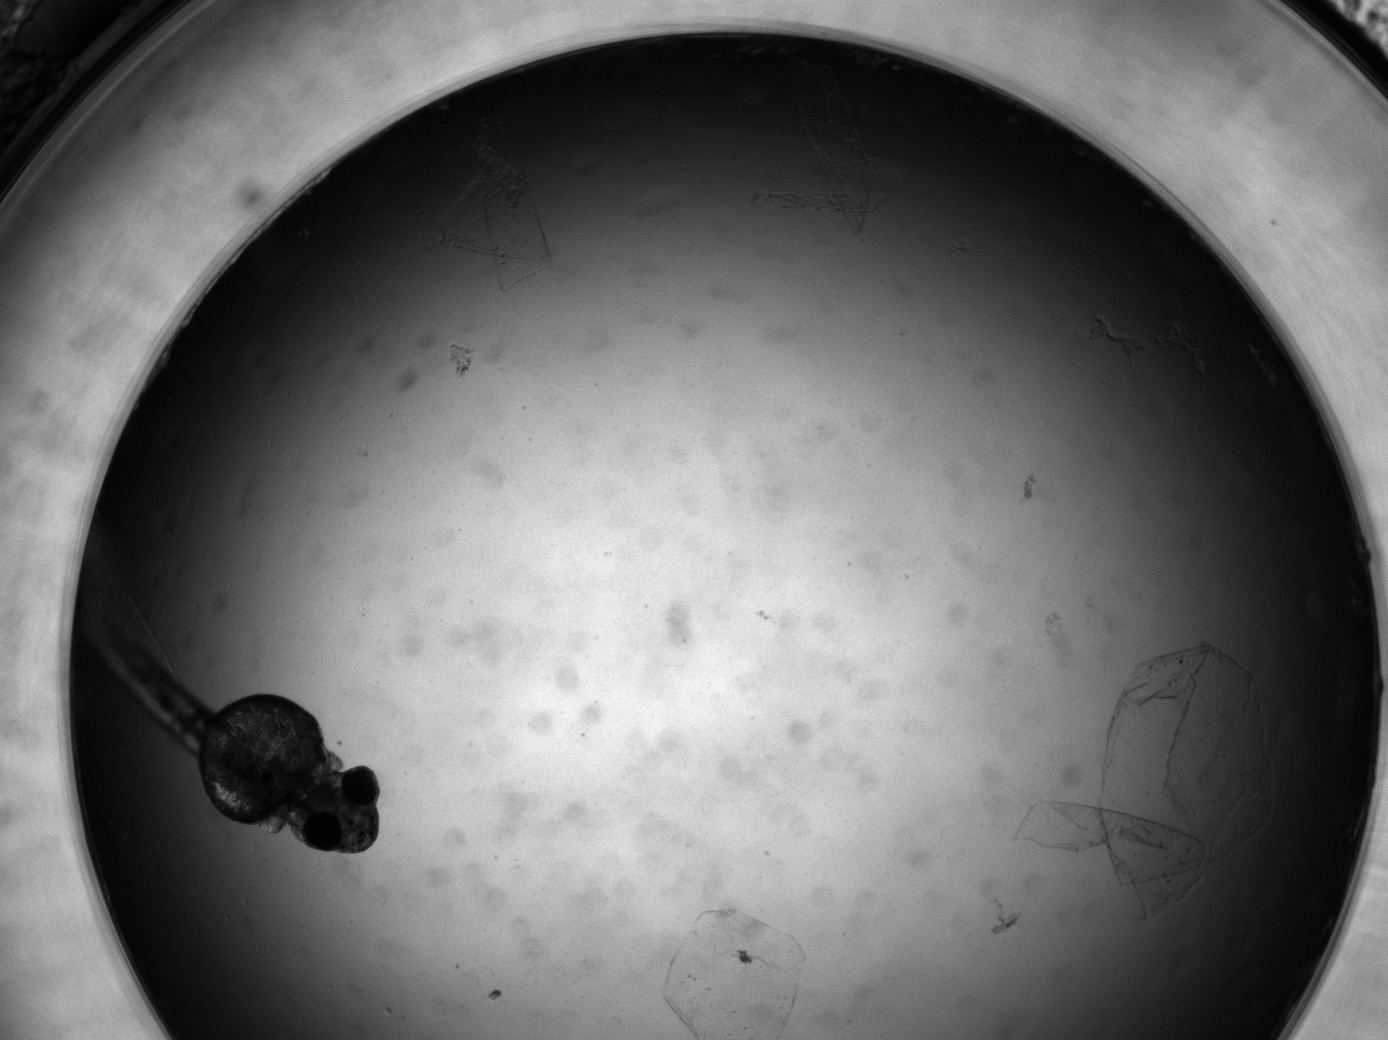debris: (1012, 645, 1276, 920), (665, 909, 808, 1040)
embryo: (80, 598, 380, 853)
eye: (341, 766, 379, 809), (302, 812, 343, 851)
yolksac: (198, 693, 325, 824)
